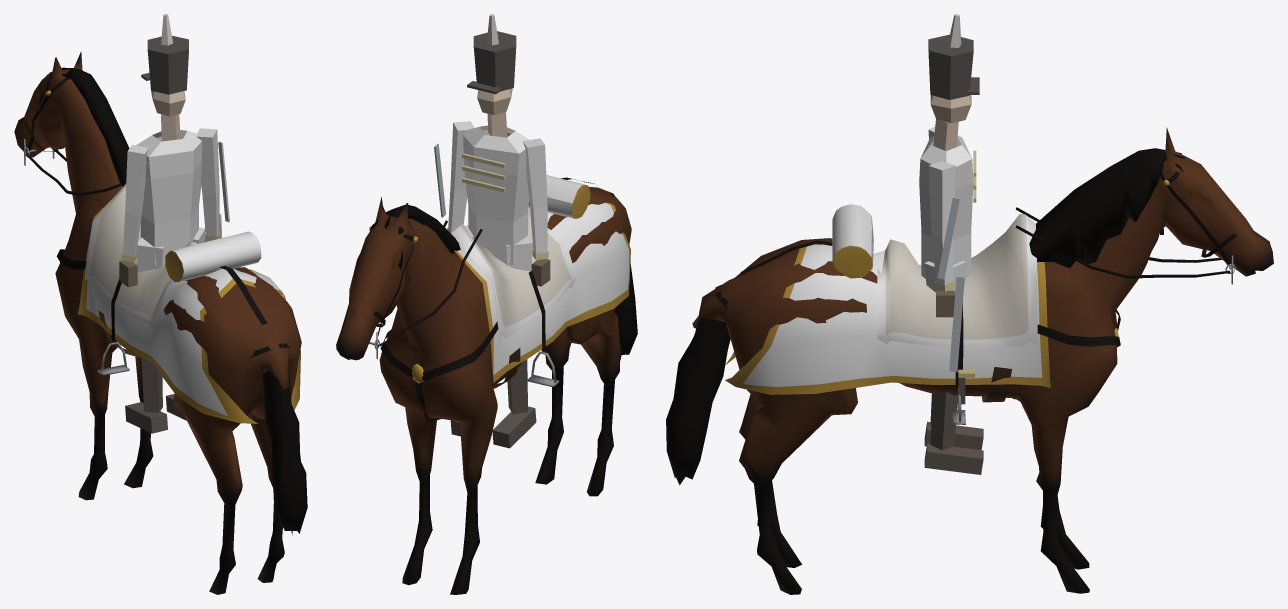
The model's file is cavalry_hx_c19_hussar_lod1.glb.
The picture shows the model from 3 angles, left to right: view 1: azimuth 30°, elevation 25°; view 2: azimuth 150°, elevation 25°; view 3: azimuth 270°, elevation 25°; orthographic projection. The views are drawn at different scales.
Parts seen in each view (by area): view 1: hx_c19_hussar_lod1; view 2: hx_c19_hussar_lod1; view 3: hx_c19_hussar_lod1.
Part boxes in pixels (x1,y1,x2,y2): hx_c19_hussar_lod1: (14, 14, 307, 594); hx_c19_hussar_lod1: (336, 14, 637, 594); hx_c19_hussar_lod1: (666, 14, 1273, 594).
Bounding box in the file's own units: 0.676 × 2.62 × 2.56.
